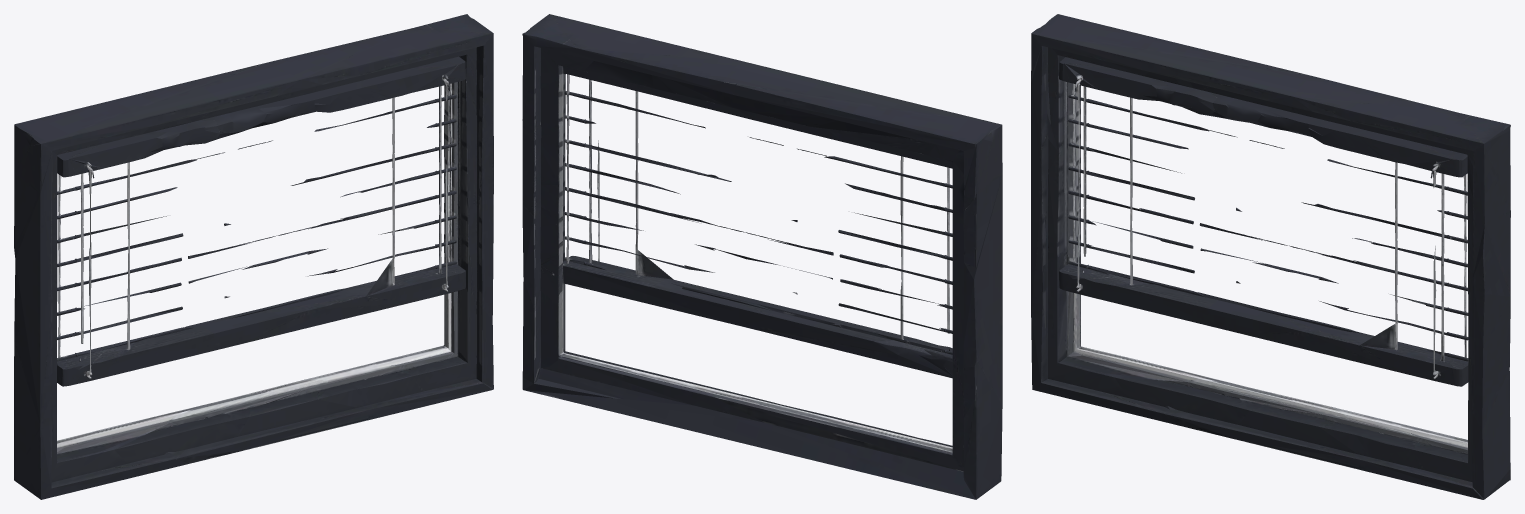
The model's file is window.glb.
The picture shows the model from 3 angles, left to right: view 1: azimuth 30°, elevation 25°; view 2: azimuth 150°, elevation 25°; view 3: azimuth 330°, elevation 25°; orthographic projection.
Size of the model in its own units: 1.9 by 1.43 by 0.2294.
1 material, 1 textured.
